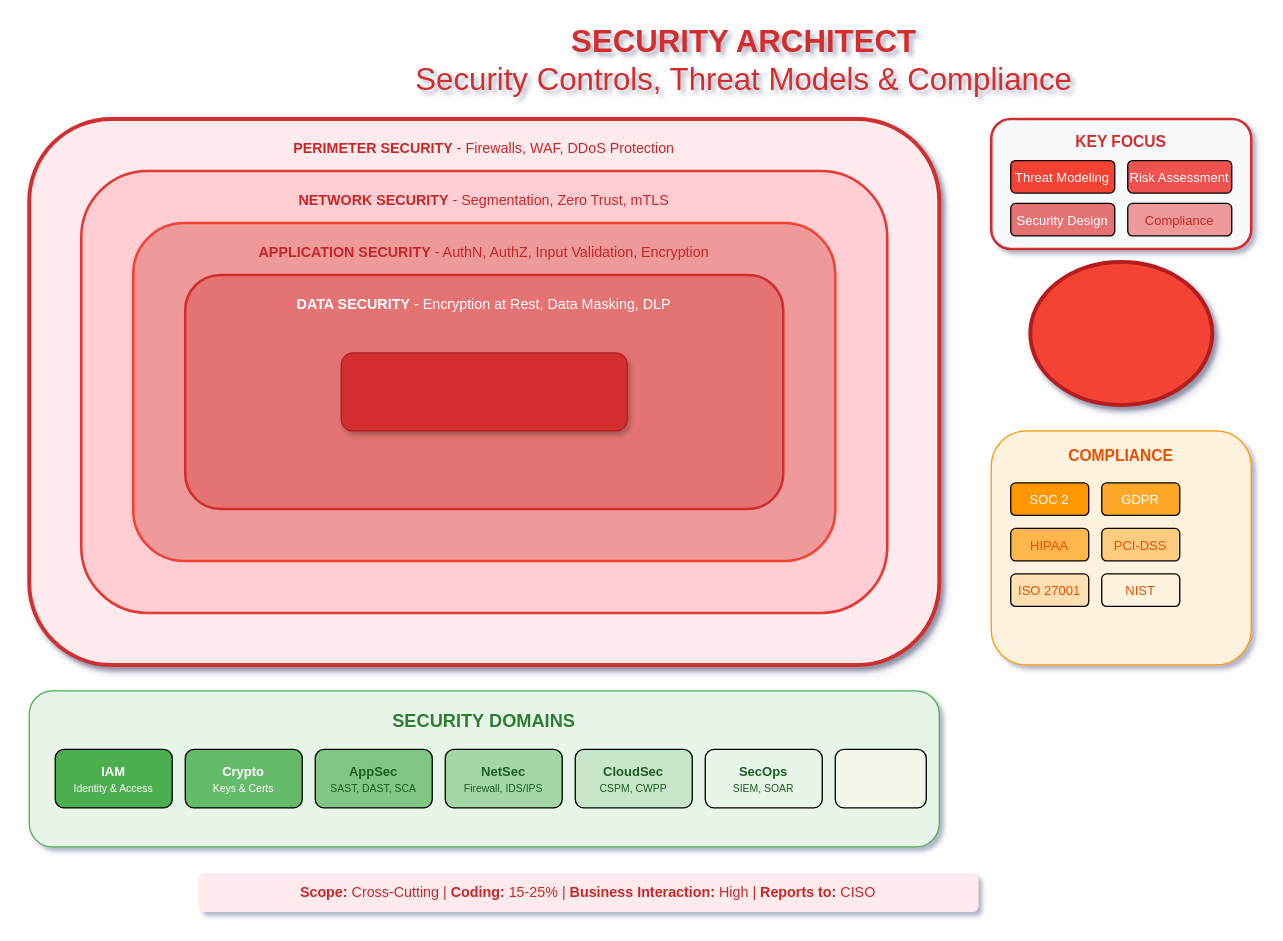
Some shapes in this 1283 by 941 pixel diagram are drawn without their labels. The centre of each missing label's shape, as x and y in pixels:
GRC Governance: [880,778]
PROTECTED ASSETS Data, Systems, Users, IP: [485,393]
SECURITY ARCHITECT Design • Assess Comply • Respond: [1121,334]
